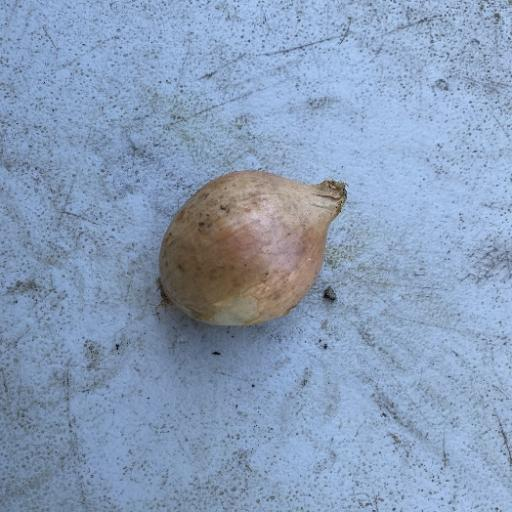Waste: (155, 168, 348, 328)
